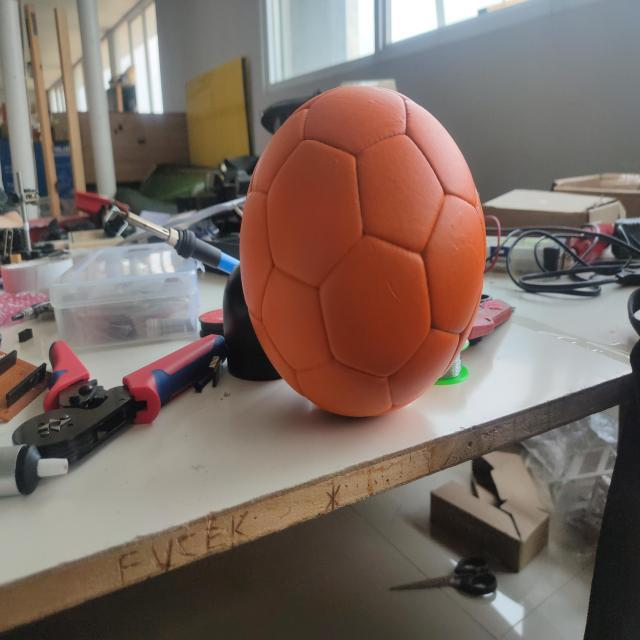bola: (235, 78, 489, 420)
